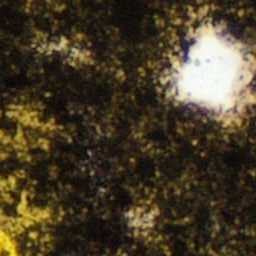cement_matrix: (0, 0, 255, 255), (130, 212, 151, 226), (250, 74, 255, 90), (23, 115, 33, 121), (58, 42, 63, 46), (77, 53, 80, 56)
cracks: (0, 205, 45, 255), (24, 116, 32, 120), (59, 43, 62, 45), (78, 54, 79, 55)
gravel_crushed_stones: (165, 22, 255, 124), (131, 213, 150, 225)
